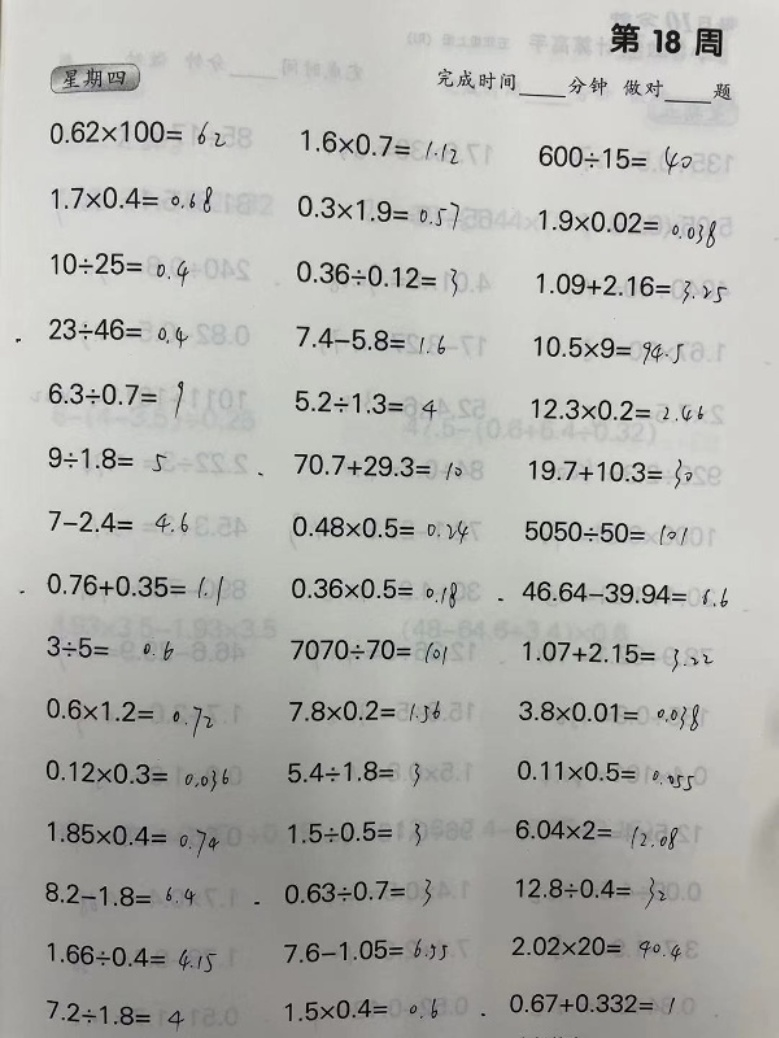equation: (521, 570, 734, 616), (39, 693, 218, 743), (39, 750, 234, 789), (510, 812, 682, 855), (40, 568, 226, 607), (532, 205, 721, 243), (517, 636, 718, 671), (530, 267, 730, 302), (513, 695, 702, 732), (278, 873, 436, 916), (523, 454, 697, 493), (510, 871, 670, 913), (43, 113, 229, 149), (42, 819, 222, 856), (291, 192, 464, 230), (284, 572, 461, 609), (290, 257, 462, 295), (45, 180, 217, 218), (510, 755, 697, 789), (44, 628, 178, 675), (42, 376, 190, 418), (286, 511, 470, 544), (42, 938, 219, 972), (532, 139, 696, 175), (280, 755, 426, 795), (283, 632, 451, 666), (278, 932, 451, 965), (506, 929, 684, 961), (295, 127, 462, 161), (288, 448, 465, 480), (284, 694, 445, 728), (502, 986, 678, 1017), (528, 331, 687, 365), (526, 393, 706, 423), (519, 515, 691, 546), (44, 247, 192, 283), (39, 877, 199, 910), (43, 311, 191, 346), (280, 815, 423, 851), (48, 505, 193, 540), (290, 322, 448, 354), (39, 998, 187, 1032), (279, 993, 443, 1022), (288, 387, 440, 418), (42, 441, 169, 474)
